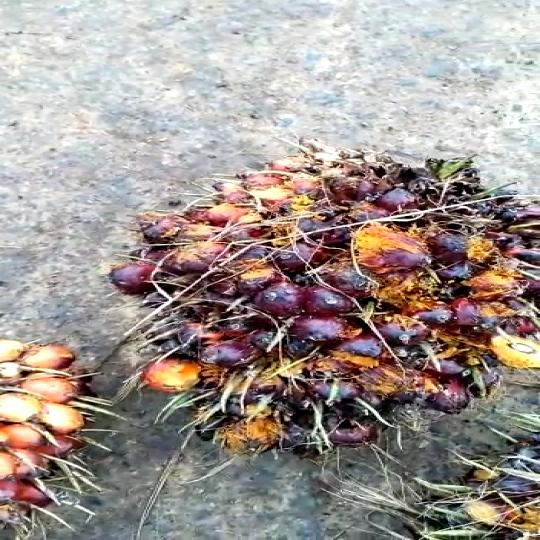masak: (105, 130, 540, 455)
